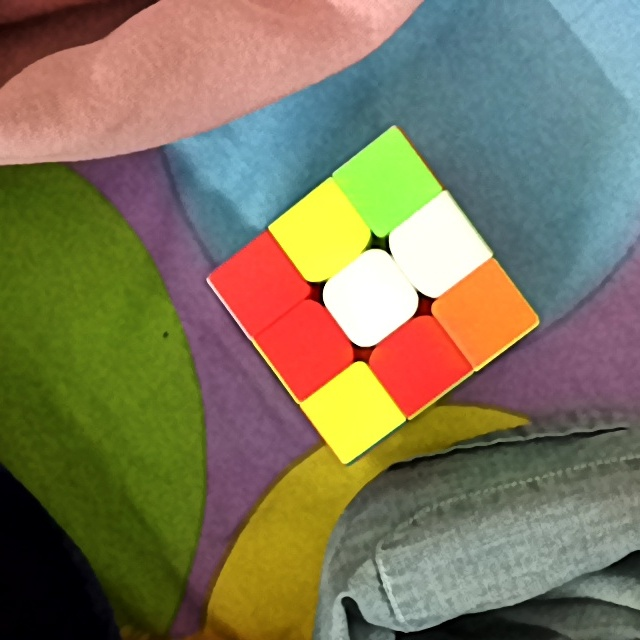tile: (359, 154, 417, 210), (294, 207, 349, 261), (342, 272, 397, 326), (410, 221, 466, 273), (236, 256, 288, 311), (461, 284, 513, 338), (282, 321, 331, 376), (394, 335, 445, 387), (328, 387, 380, 437)
